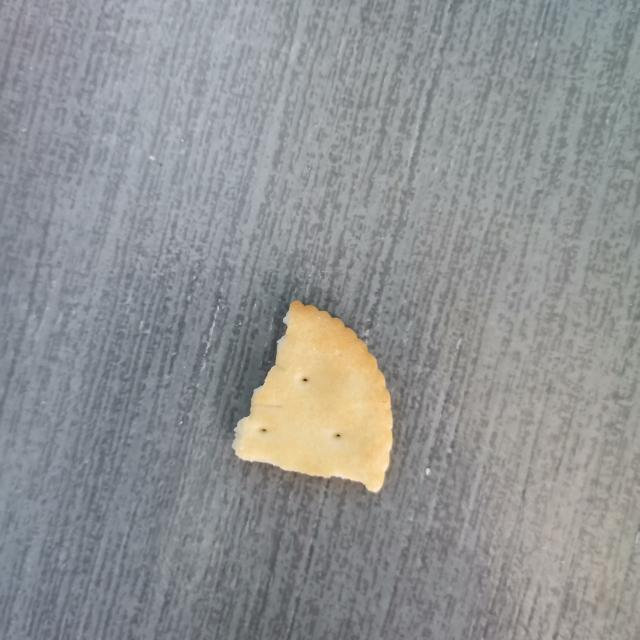Broken: (231, 299, 394, 493)
